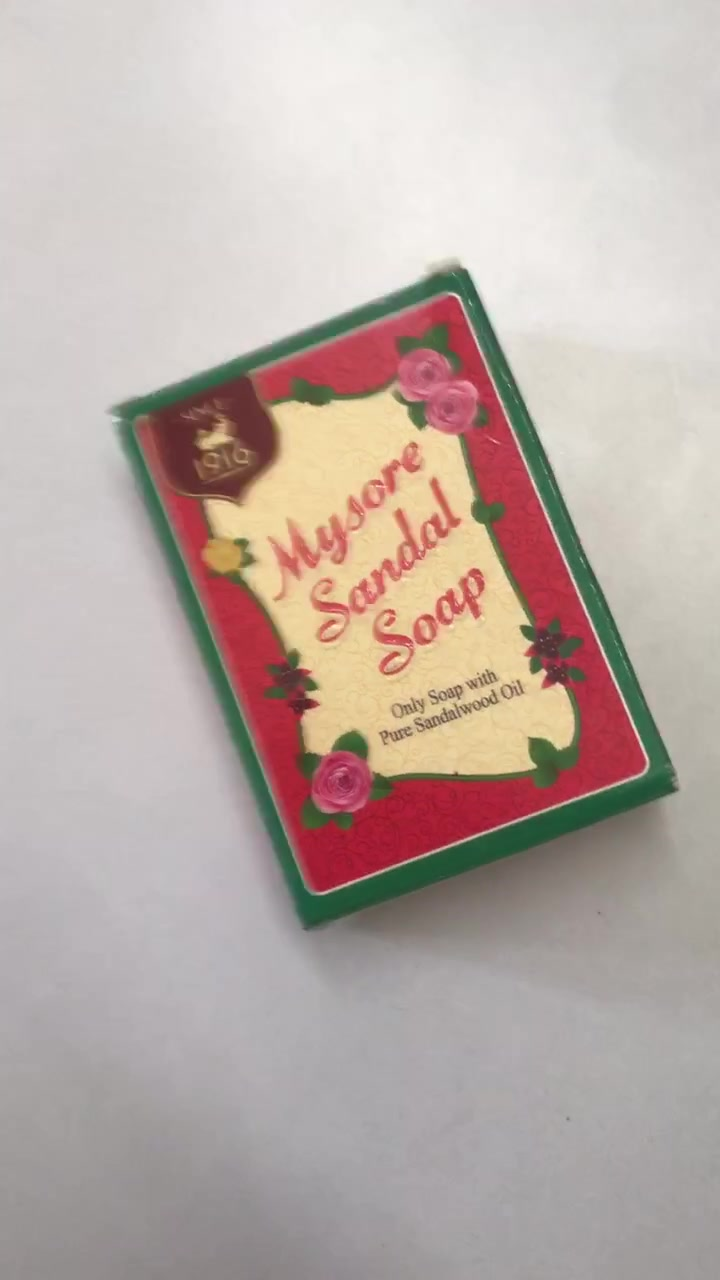mysore sandal soap: (116, 270, 678, 925)
